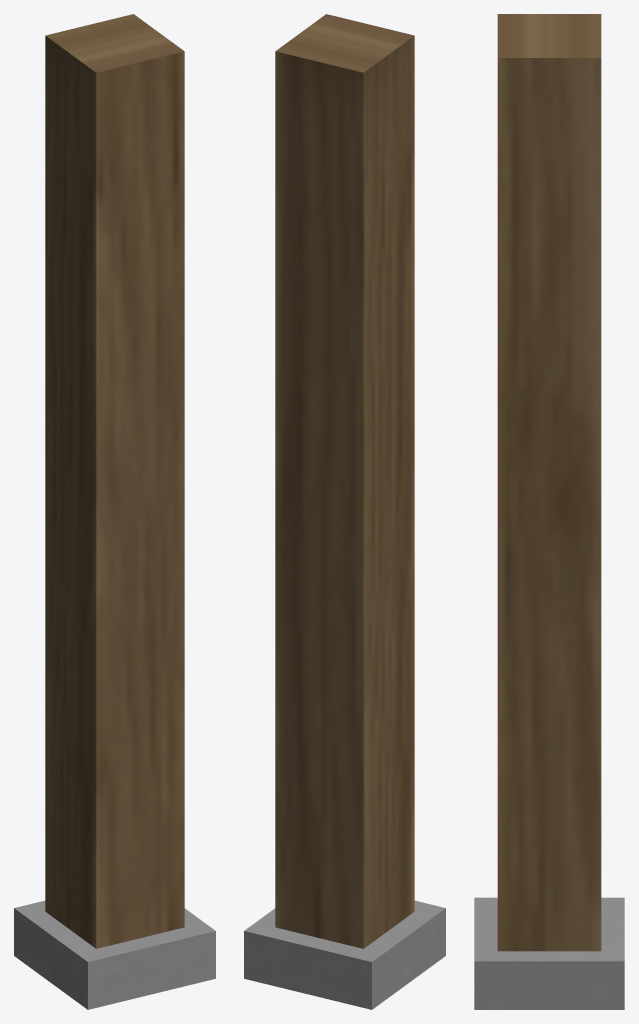
File: sb_obj_outdoor028_house01_pole.fbx
The picture shows the model from 3 angles, left to right: view 1: azimuth 30°, elevation 25°; view 2: azimuth 150°, elevation 25°; view 3: azimuth 270°, elevation 25°; orthographic projection.
Visible parts, largest first — view 1: sb_obj_outdoor028_house01_pole; view 2: sb_obj_outdoor028_house01_pole; view 3: sb_obj_outdoor028_house01_pole.
Part boxes in pixels (x1,y1,x2,y2): sb_obj_outdoor028_house01_pole: (14, 14, 215, 1009); sb_obj_outdoor028_house01_pole: (244, 14, 445, 1009); sb_obj_outdoor028_house01_pole: (474, 14, 624, 1009).
Size of the model in its own units: 0.4347 by 3 by 0.4347.
